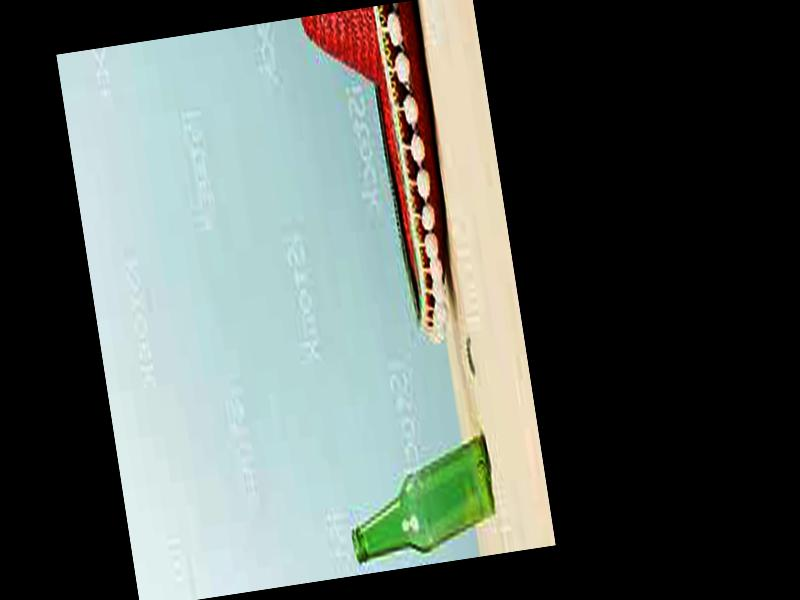Beer: (338, 432, 503, 560)
